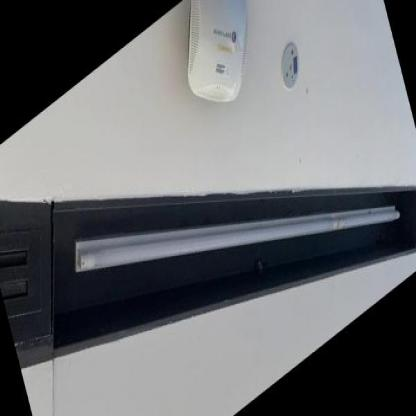light_off: (59, 1, 407, 415)
